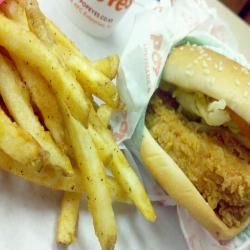burger: (139, 35, 249, 243)
fries: (1, 1, 133, 206)
